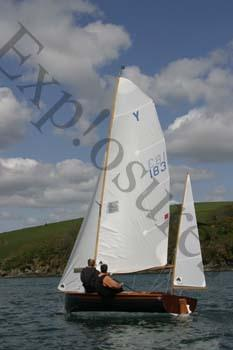Ship: (60, 77, 206, 319)
